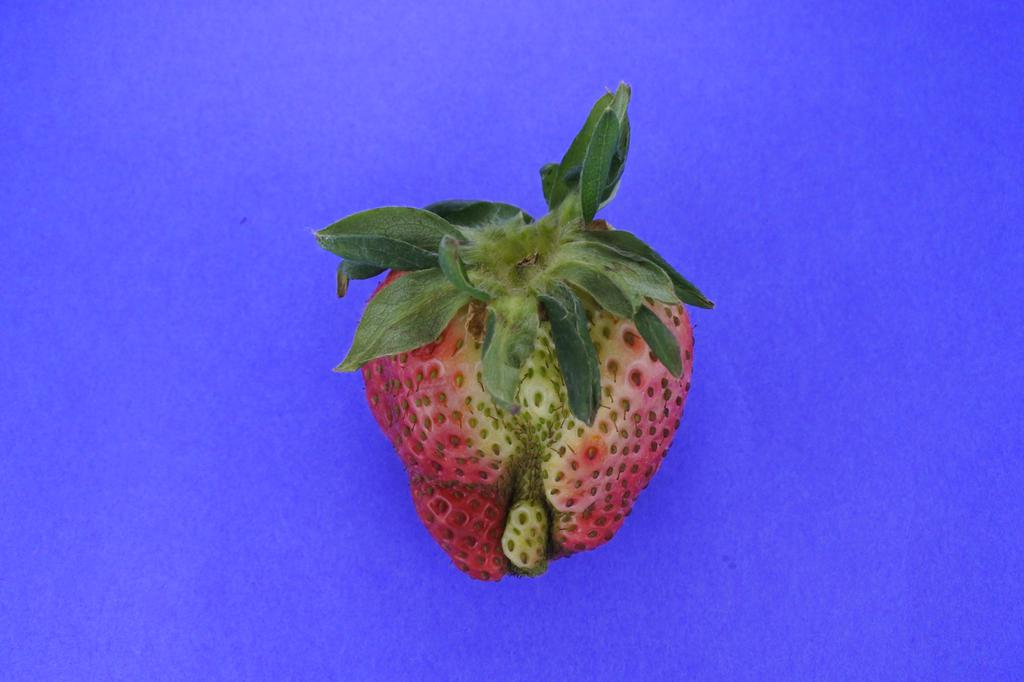red strawberry: (309, 81, 714, 584)
